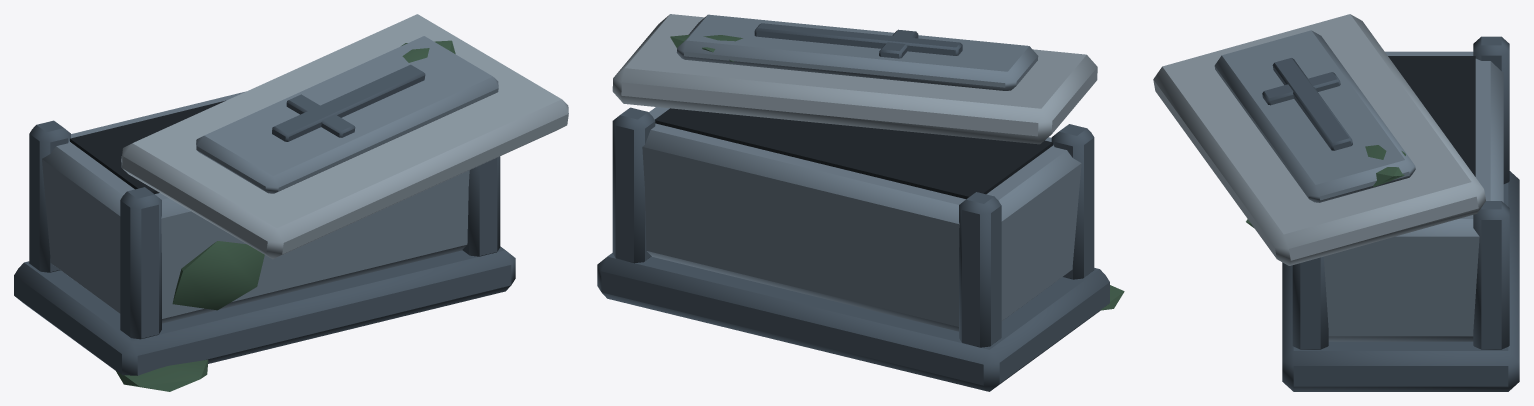
The model's file is crypt_sarcophagus.fbx.
The picture shows the model from 3 angles, left to right: view 1: azimuth 30°, elevation 25°; view 2: azimuth 150°, elevation 25°; view 3: azimuth 270°, elevation 25°; orthographic projection. The views are drawn at different scales.
Parts seen in each view (by area): view 1: crypt_sarcophagus; view 2: crypt_sarcophagus; view 3: crypt_sarcophagus.
Part boxes in pixels (x1,y1,x2,y2): crypt_sarcophagus: [14, 14, 568, 391]; crypt_sarcophagus: [597, 14, 1124, 391]; crypt_sarcophagus: [1153, 14, 1519, 391].
Size of the model in its own units: 2.26 by 1.1 by 1.62.
